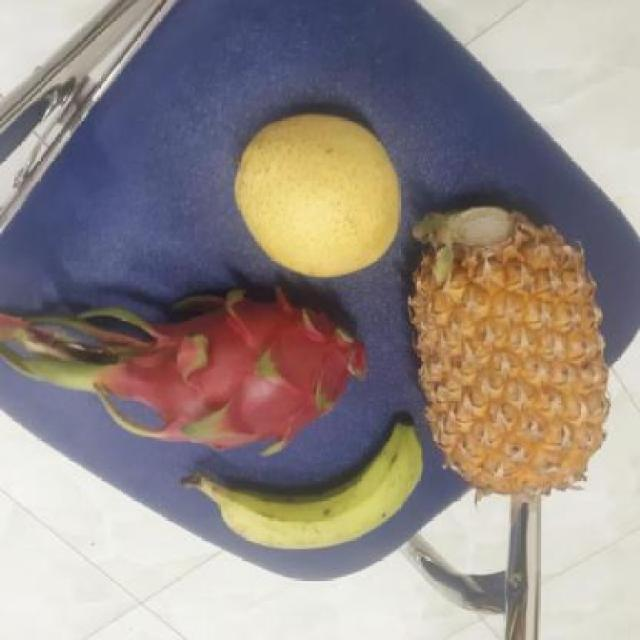banana: (201, 420, 428, 554)
dragon fruit: (108, 284, 386, 456)
pear: (233, 108, 407, 277)
pineapple: (409, 195, 611, 497)
